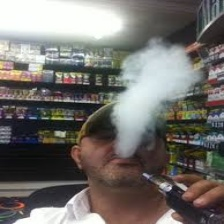smoke: (120, 49, 183, 143)
